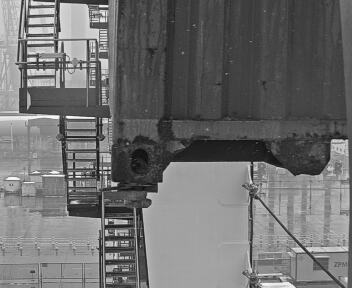twist_lock_1: (127, 155, 170, 186)
